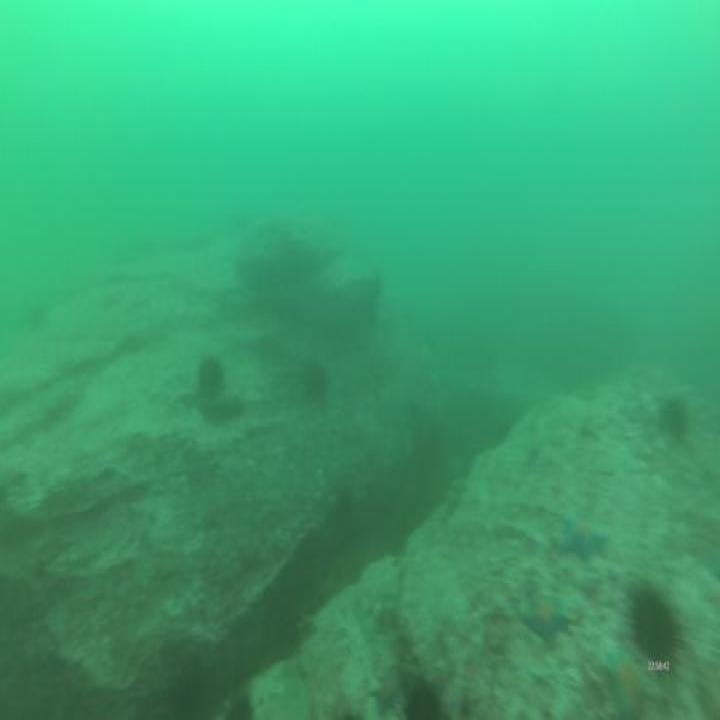echinus: (634, 598, 676, 670), (199, 357, 224, 391), (662, 400, 683, 439), (302, 361, 323, 391)
starfish: (521, 594, 565, 645), (562, 512, 605, 560), (372, 674, 397, 716)
